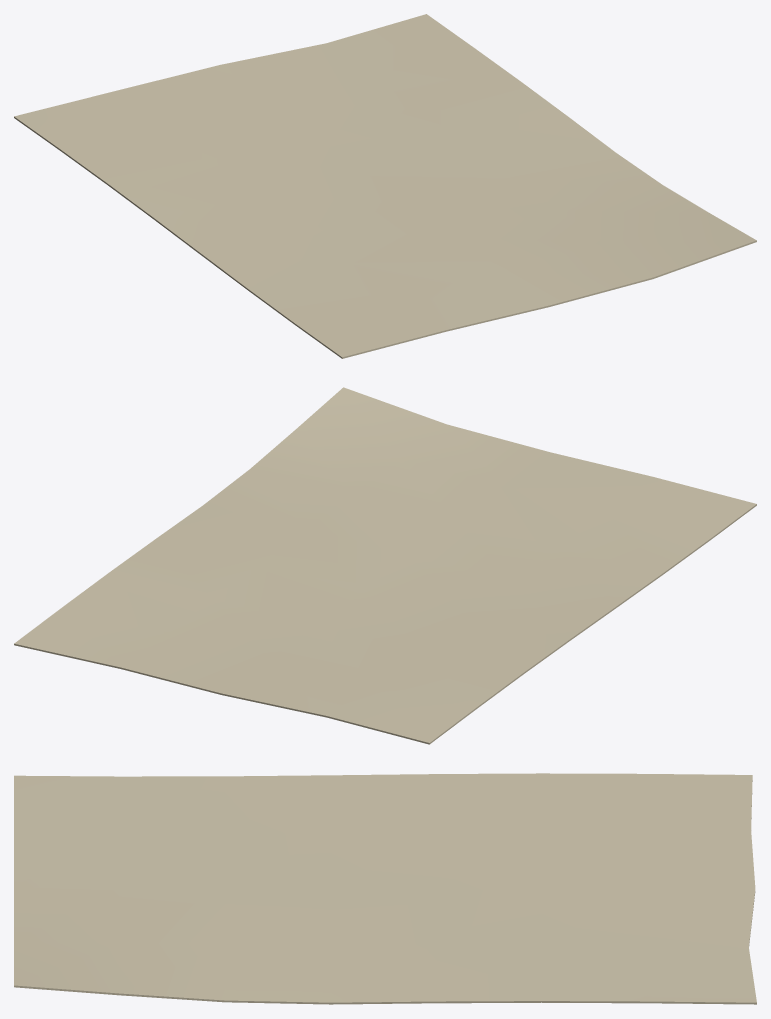
File: exercise-leaf-lod0.fbx
3 renders of one model, top to bottom at view 1: azimuth 30°, elevation 25°; view 2: azimuth 150°, elevation 25°; view 3: azimuth 270°, elevation 25°, orthographic. The views are drawn at different scales.
Visible parts, largest first — view 1: Dog eared torn class exercise page; view 2: Dog eared torn class exercise page; view 3: Dog eared torn class exercise page.
Part boxes in pixels (bbox=[...]): Dog eared torn class exercise page: bbox=[14, 14, 756, 358]; Dog eared torn class exercise page: bbox=[14, 387, 756, 744]; Dog eared torn class exercise page: bbox=[14, 773, 756, 1004].
Bounding box in the file's own units: 21.81 × 0.913 × 30.08.
